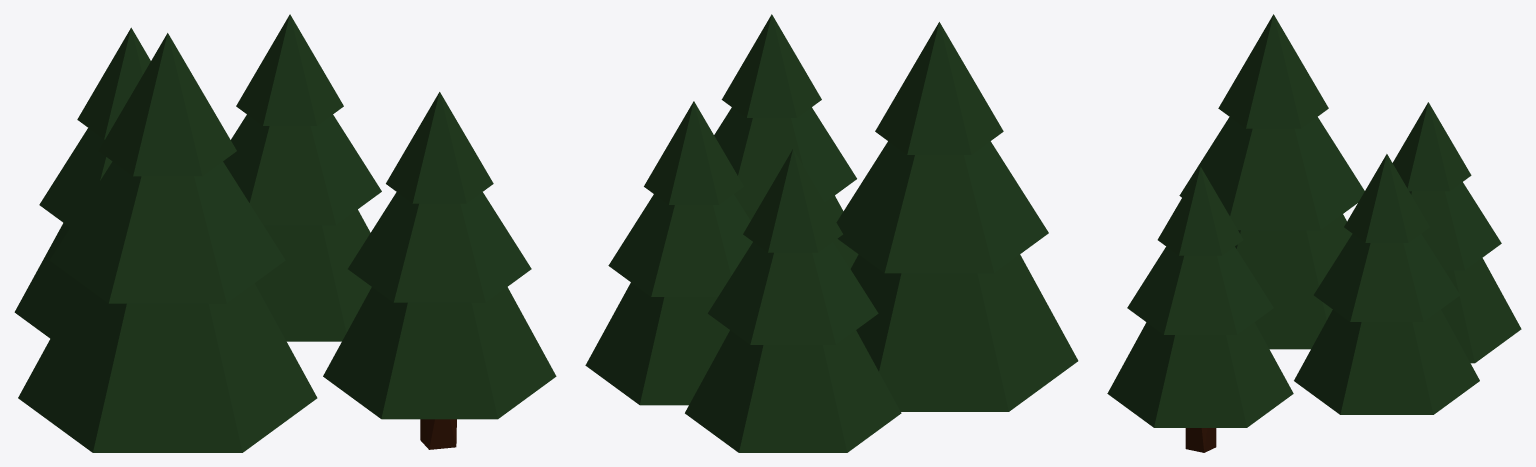
The model's file is medium_tree.fbx.
3 views of the same model, side by side, from view 1: azimuth 30°, elevation 25°; view 2: azimuth 150°, elevation 25°; view 3: azimuth 270°, elevation 25° (orthographic). The views are drawn at different scales.
Parts seen in each view (by area): view 1: Leaf.003, Leaf, Leaf.002, Leaf.001, Trunk; view 2: Leaf.003, Leaf.001, Leaf.002, Leaf; view 3: Leaf.003, Leaf, Leaf.002, Leaf.001, Trunk.
Part boxes in pixels (x1,y1,x2,y2): Leaf.003: (18,33,317,452); Leaf: (323,92,556,419); Leaf.002: (223,14,381,341); Leaf.001: (14,27,150,338); Trunk: (420,419,456,449); Leaf.003: (836,22,1078,411); Leaf.001: (685,149,901,452); Leaf.002: (585,101,752,405); Leaf: (714,14,858,268); Leaf.003: (1179,14,1364,349); Leaf: (1107,166,1293,427); Leaf.002: (1294,154,1479,414); Leaf.001: (1392,102,1521,363); Trunk: (1185,428,1216,452).
Size of the model in its own units: 1315 by 1272 by 1387.
